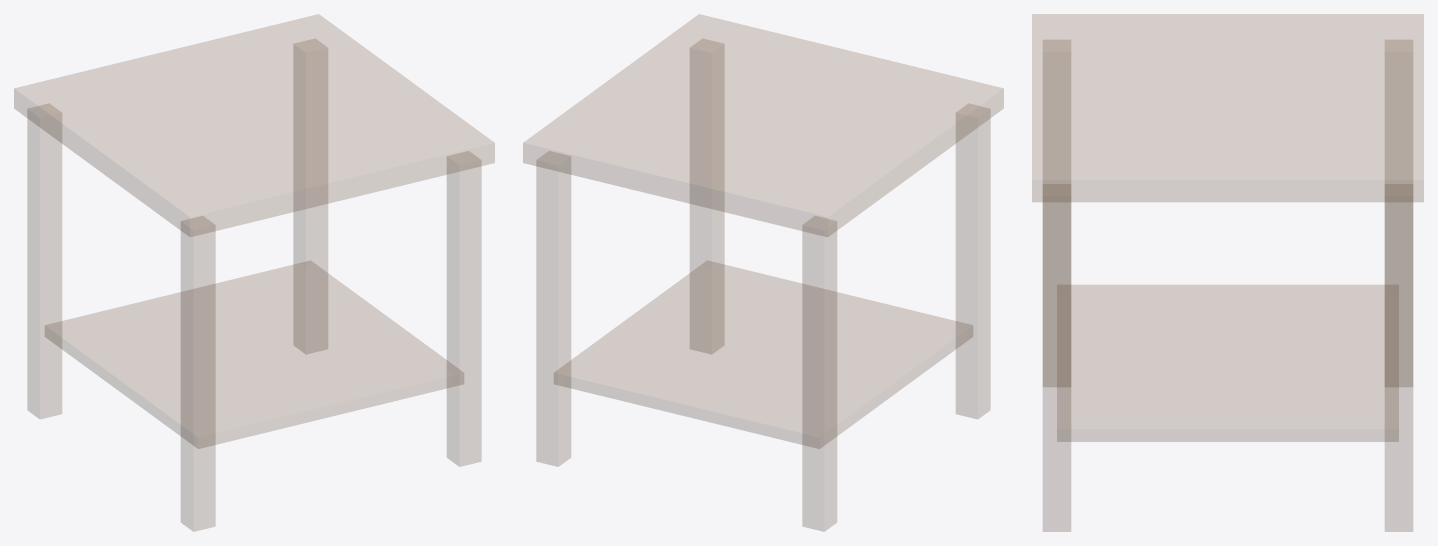
The model's file is smalltable-ghost.glb.
3 renders of one model, left to right at view 1: azimuth 30°, elevation 25°; view 2: azimuth 150°, elevation 25°; view 3: azimuth 270°, elevation 25°, orthographic. The views are drawn at different scales.
Size of the model in its own units: 0.55 by 0.5525 by 0.55.
